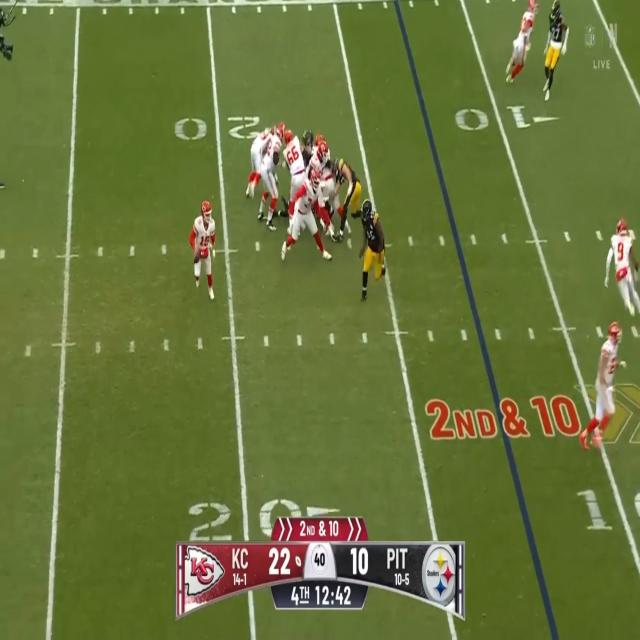Ball: (193, 250, 200, 264)
